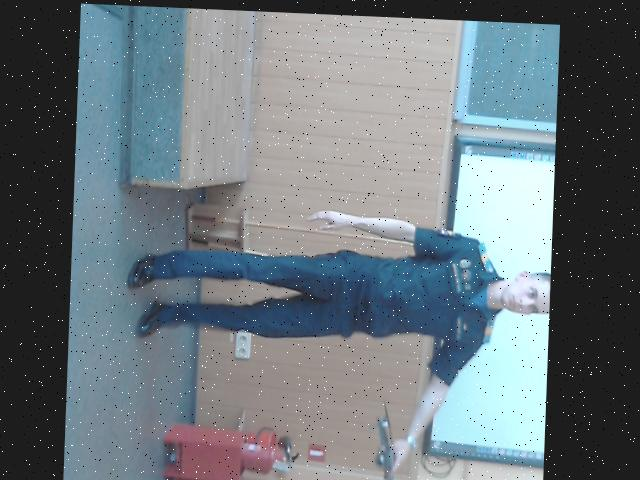drone: (372, 395, 415, 480)
